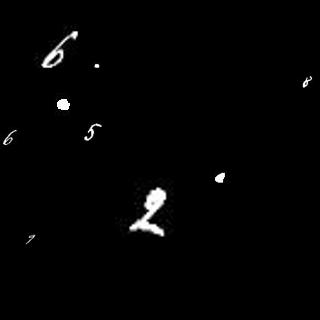dot: (51, 94, 72, 116), (209, 170, 229, 186), (91, 60, 101, 72)
eight: (301, 74, 313, 89)
five: (82, 122, 105, 143)
seven: (24, 229, 40, 245)
six: (41, 25, 80, 71), (1, 128, 19, 148)
two: (131, 183, 169, 237)
